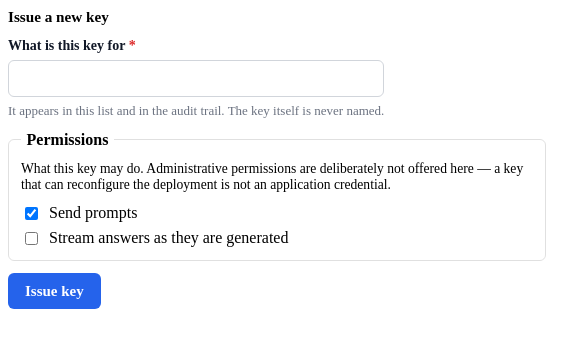
Test: the mint request › an empty name never reaches the network
This screenshot has width=563, height=355.
Click the button "Issue key" at x=54, y=291, box [8,272,101,309]
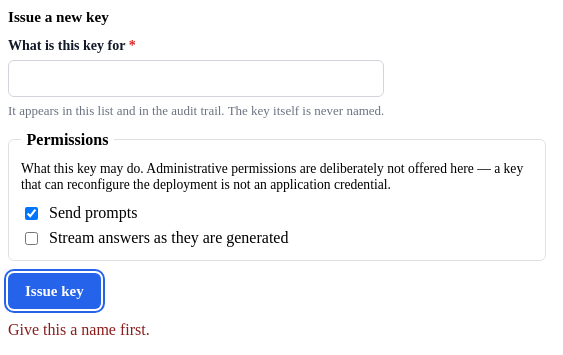
Expected: the message reads "Give this a name first.", [8,321,150,338]
